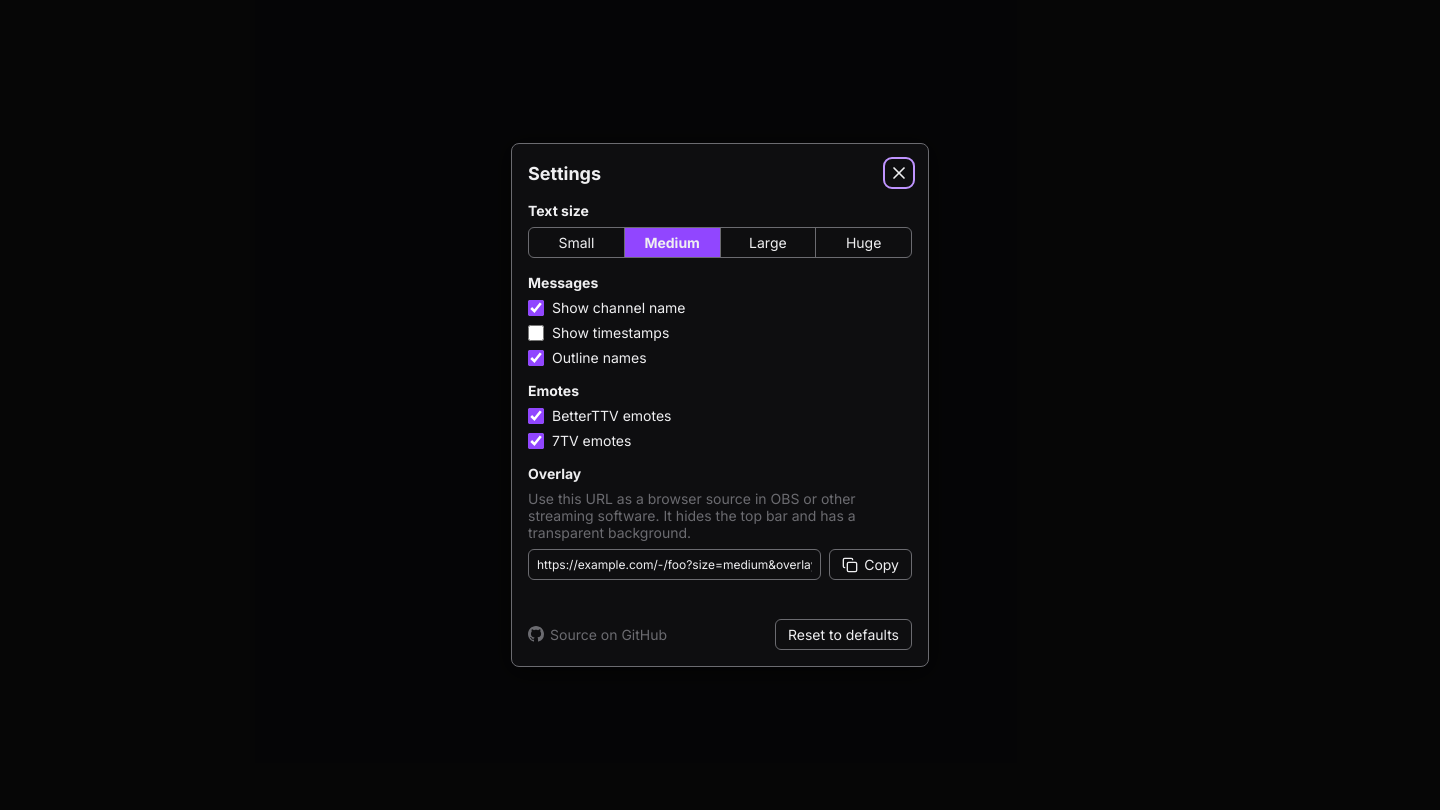
SettingsDialog › asks for a manual copy without clipboard access
This screenshot has width=1440, height=810.
Click the button "Copy" at (871, 565), box [829,549,912,580]
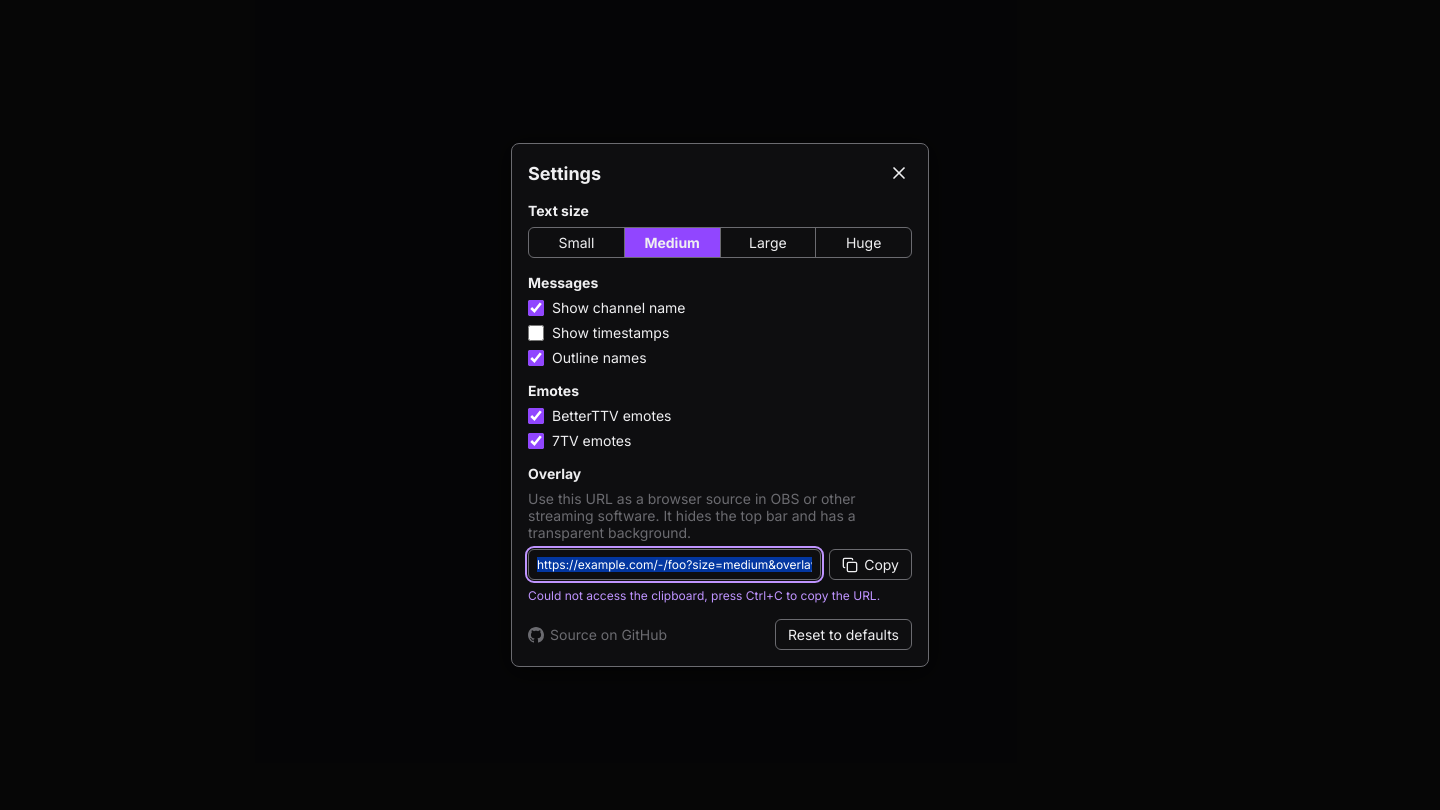
Check: the message shows "Ctrl+C", box [528,588,880,603]
